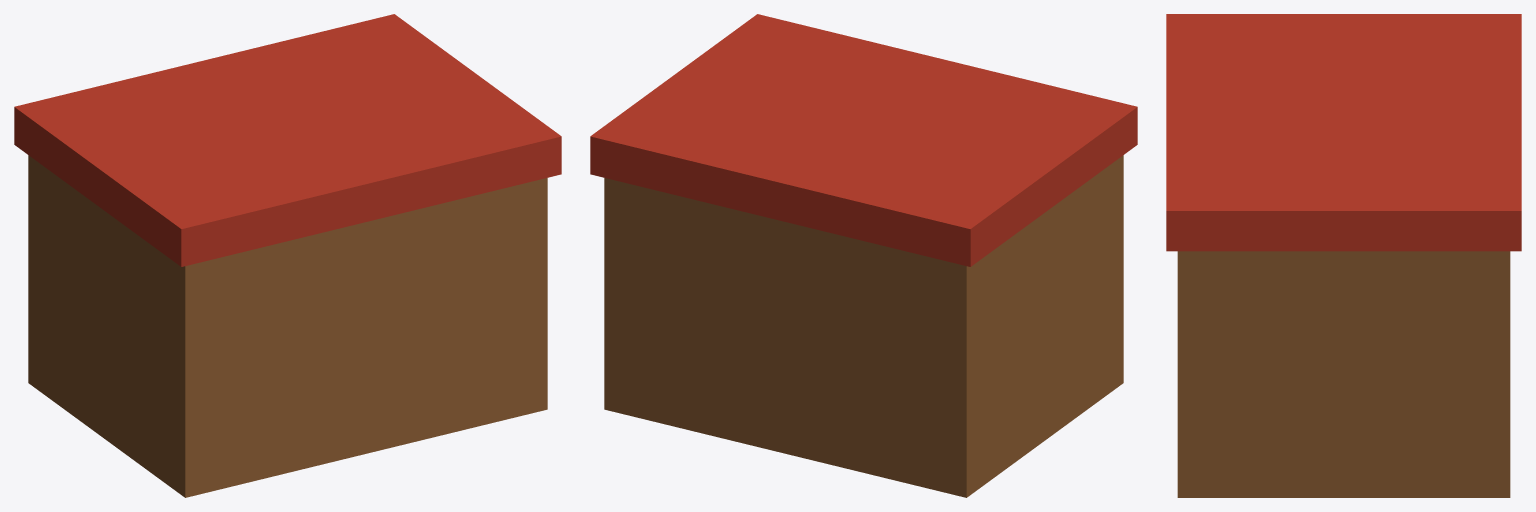
Rendered from crate.obj.
3 renders of one model, left to right at view 1: azimuth 30°, elevation 25°; view 2: azimuth 150°, elevation 25°; view 3: azimuth 270°, elevation 25°, orthographic. The views are drawn at different scales.
Bounding box in the file's own units: 0.84 × 0.58 × 0.64.
Materials: 1 (1 with a texture image).
